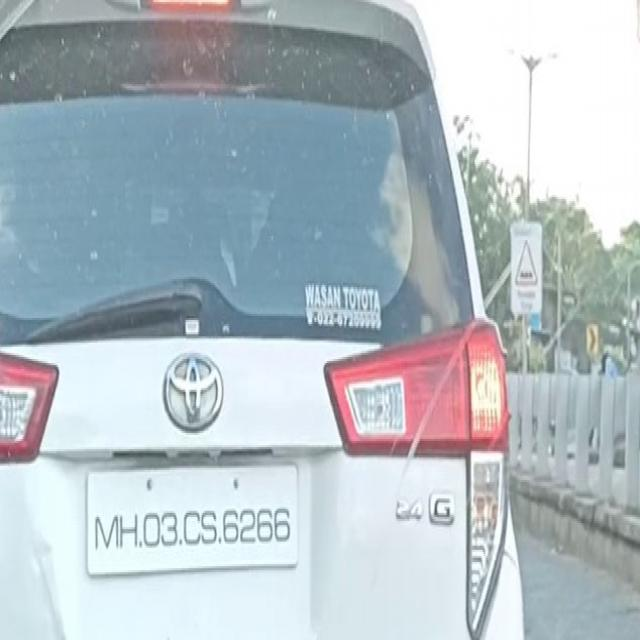Plate: (84, 459, 298, 574)
